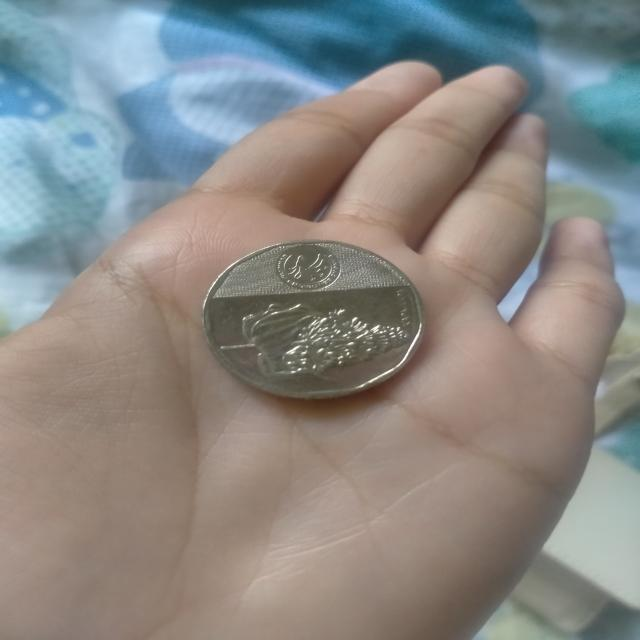10_New_Back: (232, 241, 416, 382)
